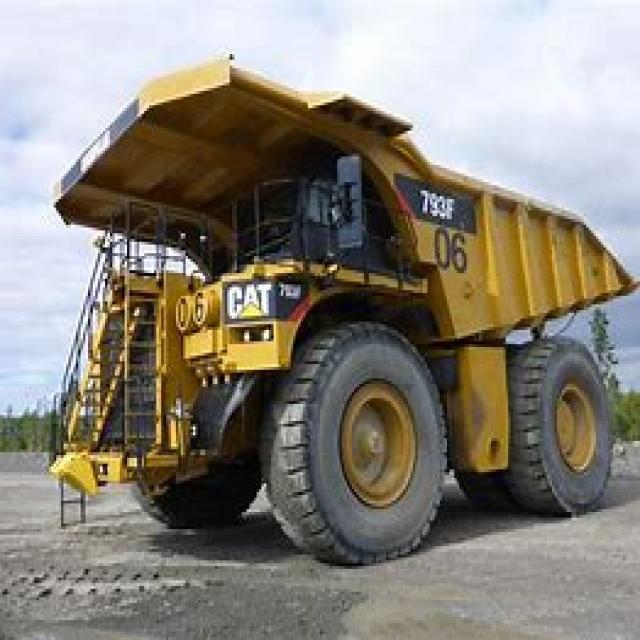dump_truck: (47, 60, 638, 569)
